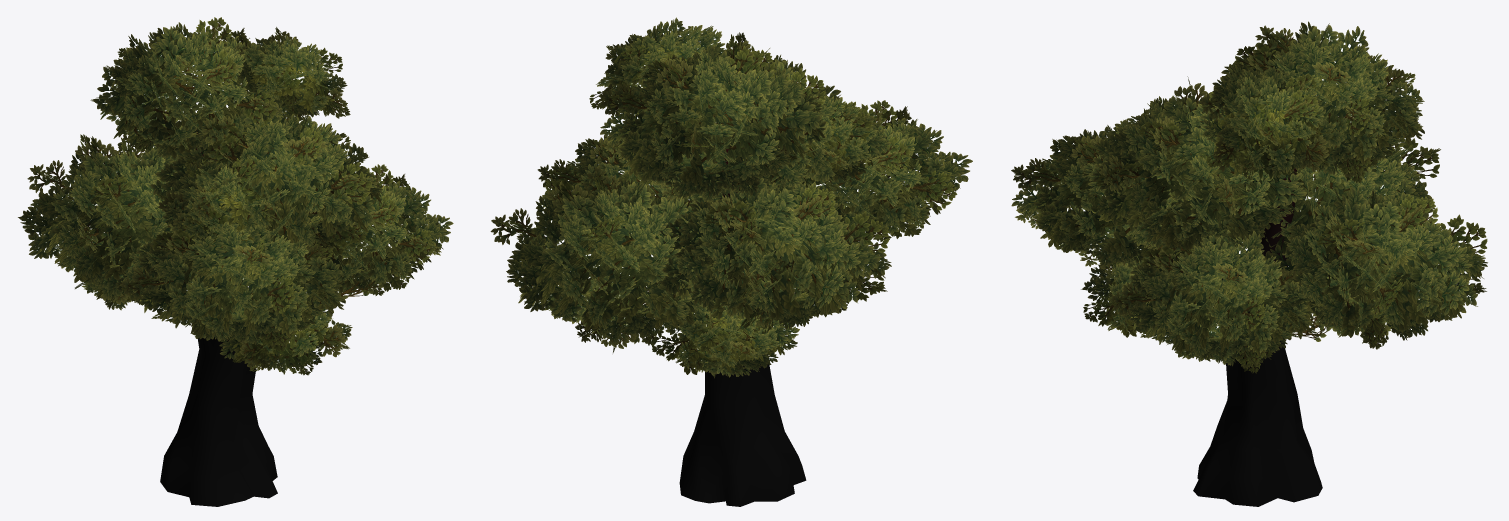
The model's file is tree_1.fbx.
The picture shows the model from 3 angles, left to right: view 1: azimuth 30°, elevation 25°; view 2: azimuth 150°, elevation 25°; view 3: azimuth 270°, elevation 25°; orthographic projection. The views are drawn at different scales.
Parts seen in each view (by area): view 1: tree_1_LOD0; view 2: tree_1_LOD0; view 3: tree_1_LOD0.
Part boxes in pixels (x1,y1,x2,y2): tree_1_LOD0: [18, 17, 453, 506]; tree_1_LOD0: [490, 17, 972, 506]; tree_1_LOD0: [1011, 21, 1487, 506].
Size of what is drawn, in the model's own units: 13.8 by 16.13 by 15.62.
